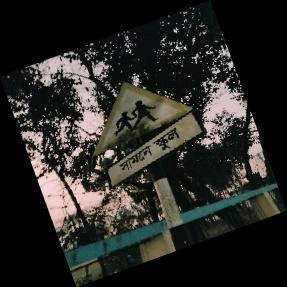School-in-front: (91, 82, 203, 190)
